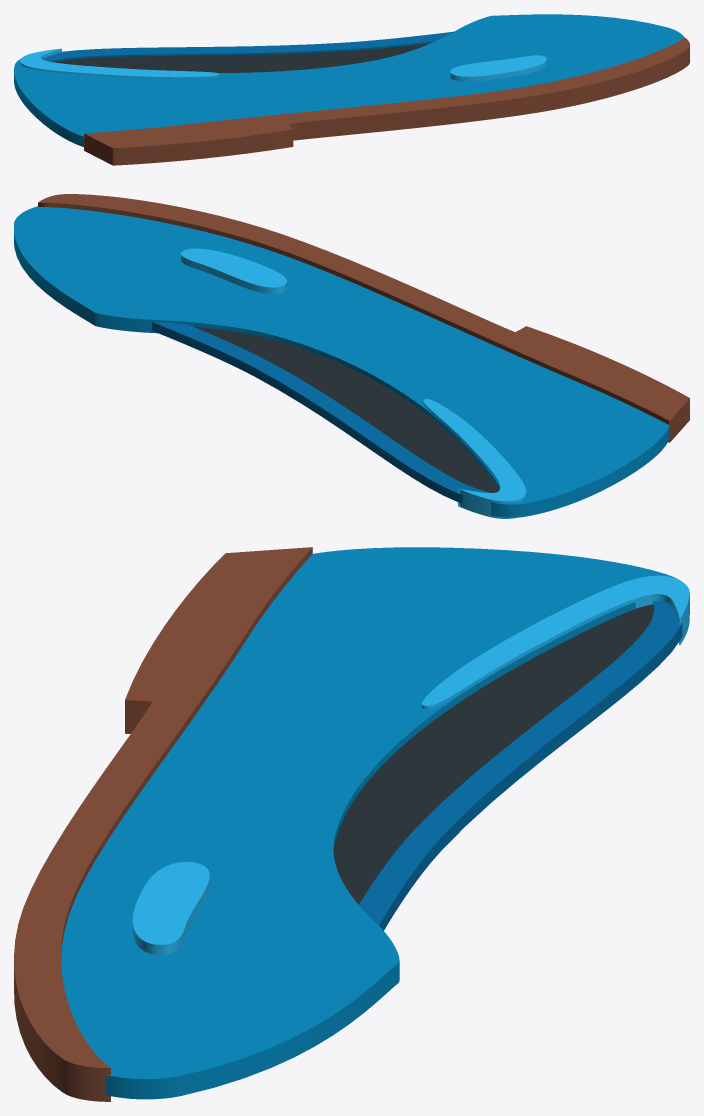
The model's file is emoji_u1f97f.glb.
The picture shows the model from 3 angles, top to bottom: view 1: azimuth 30°, elevation 25°; view 2: azimuth 150°, elevation 25°; view 3: azimuth 270°, elevation 25°; orthographic projection. The views are drawn at different scales.
Parts seen in each view (by area): view 1: emoji_u1f97f; view 2: emoji_u1f97f; view 3: emoji_u1f97f.
Part boxes in pixels (x1=…): emoji_u1f97f: x1=14, y1=14, x2=689, y2=165; emoji_u1f97f: x1=14, y1=194, x2=689, y2=518; emoji_u1f97f: x1=14, y1=547, x2=689, y2=1101.
Bounding box in the file's own units: 0.0338 × 0.0012 × 0.0182.
